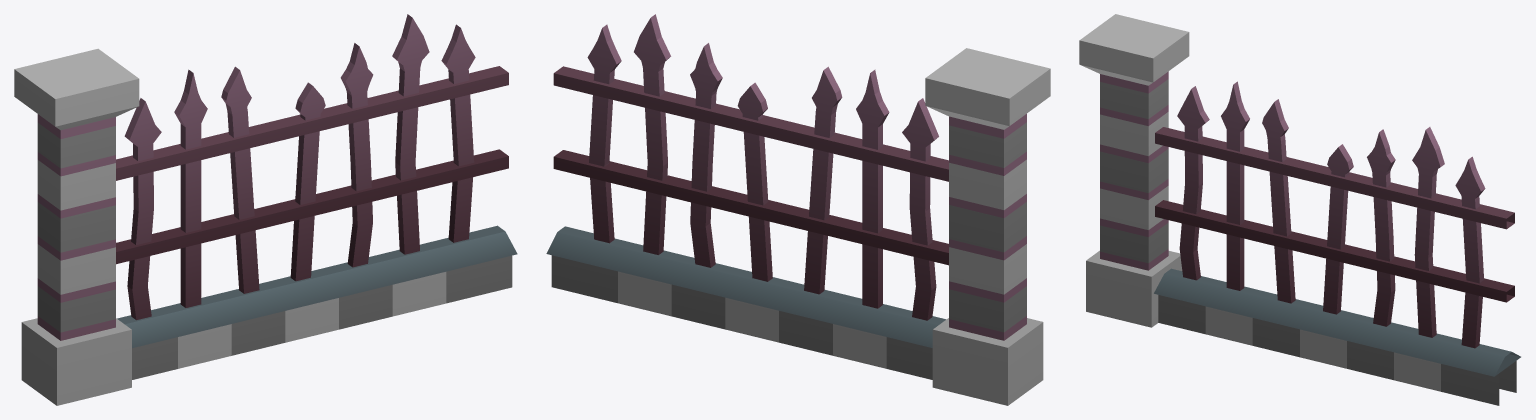
Rendered from halloween fence left.fbx.
3 views of the same model, side by side, from view 1: azimuth 30°, elevation 25°; view 2: azimuth 150°, elevation 25°; view 3: azimuth 330°, elevation 25° (orthographic). The views are drawn at different scales.
Parts seen in each view (by area): view 1: halloween fence left; view 2: halloween fence left; view 3: halloween fence left.
Boxes of the visible parts, x1,y1,x2,y2 form: halloween fence left: (14,14,517,405); halloween fence left: (546,14,1050,405); halloween fence left: (1079,14,1520,405).
Bounding box in the file's own units: 343 × 216 × 51.92.
